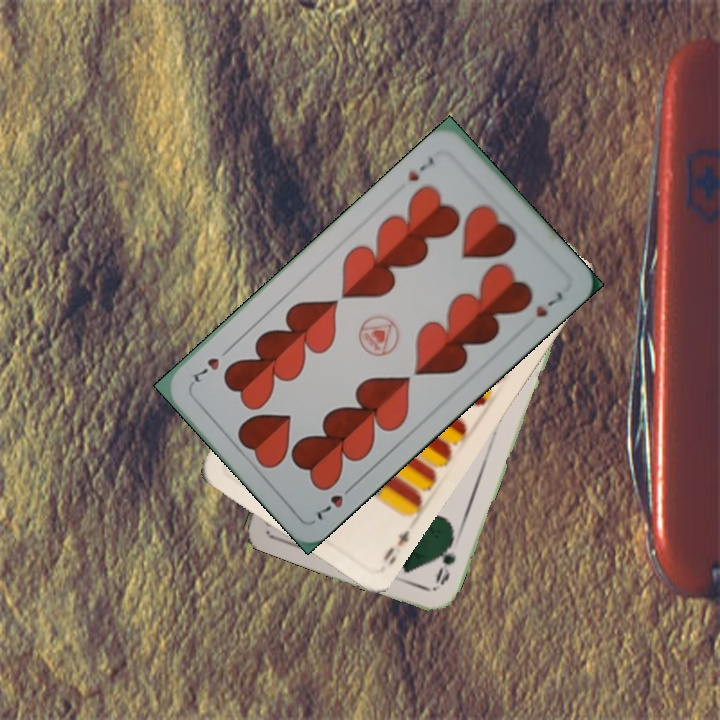E9: (379, 526, 413, 570)
GO: (431, 533, 459, 588)
H7: (310, 479, 358, 524), (403, 153, 437, 185)
